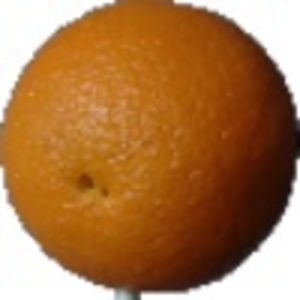laranja: (5, 3, 298, 297)
